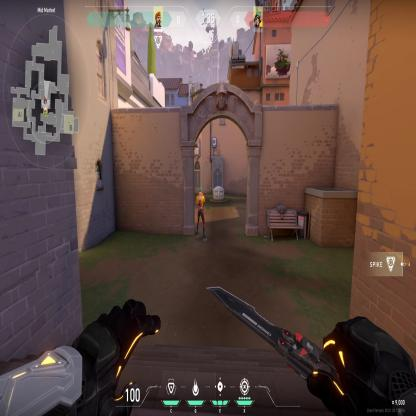enemy: (195, 184, 207, 242)
